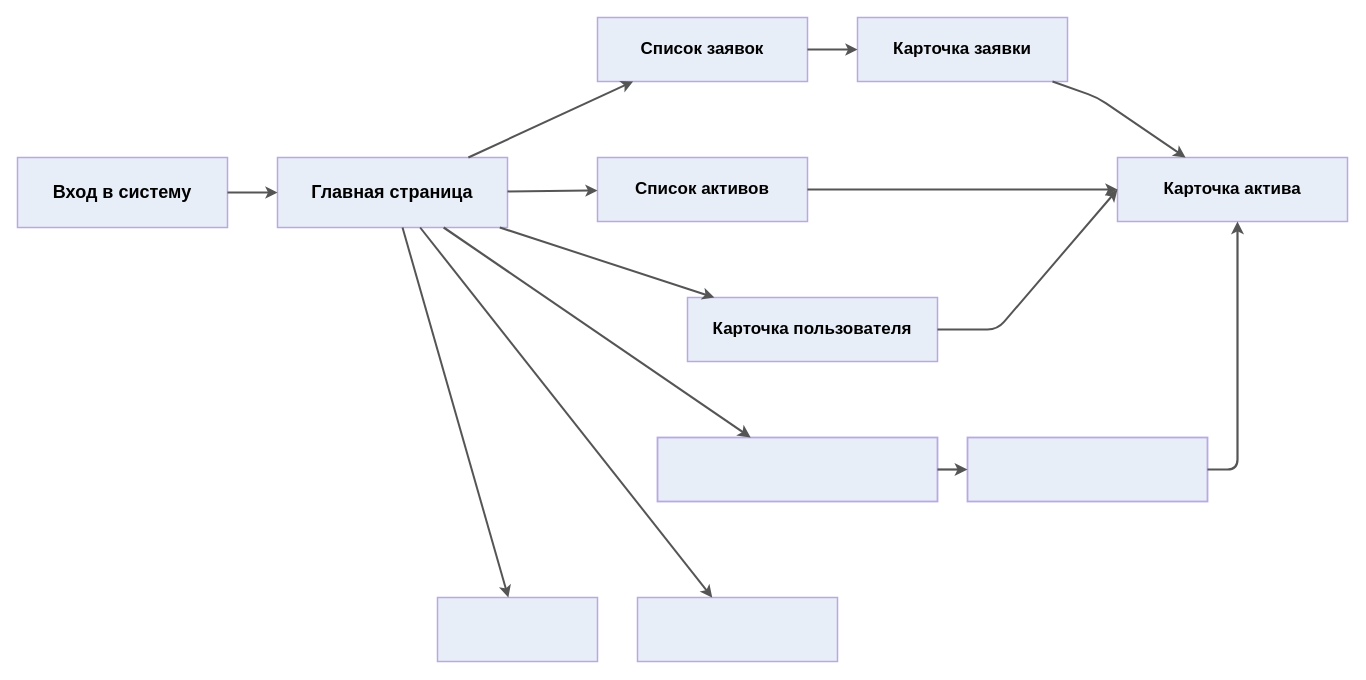
Some shapes in this 1366 by 680 pixel diagram are drawn without their labels. The shapes that lost their labels are listed below. From the top down, each one's centre as x and y in pixels, then its label:
(x=797, y=469): Инвентаризационные ведомости
(x=1087, y=469): Карточка инвентаризации
(x=517, y=629): Отчеты
(x=737, y=629): Журнал аудита
